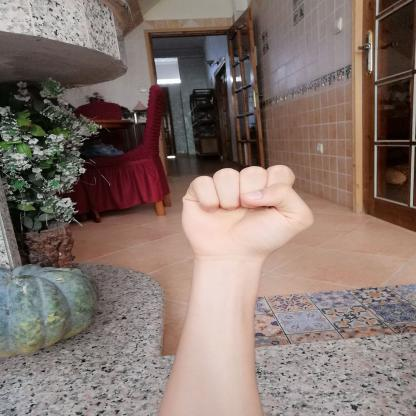SAD: (169, 154, 323, 269)
